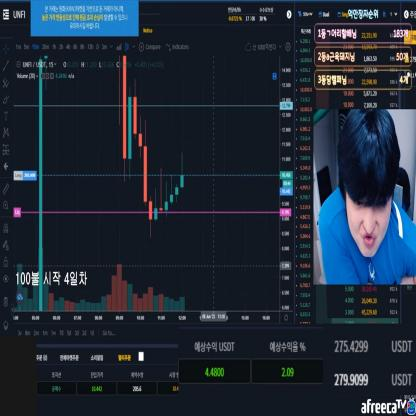streamer: (319, 110, 416, 283)
